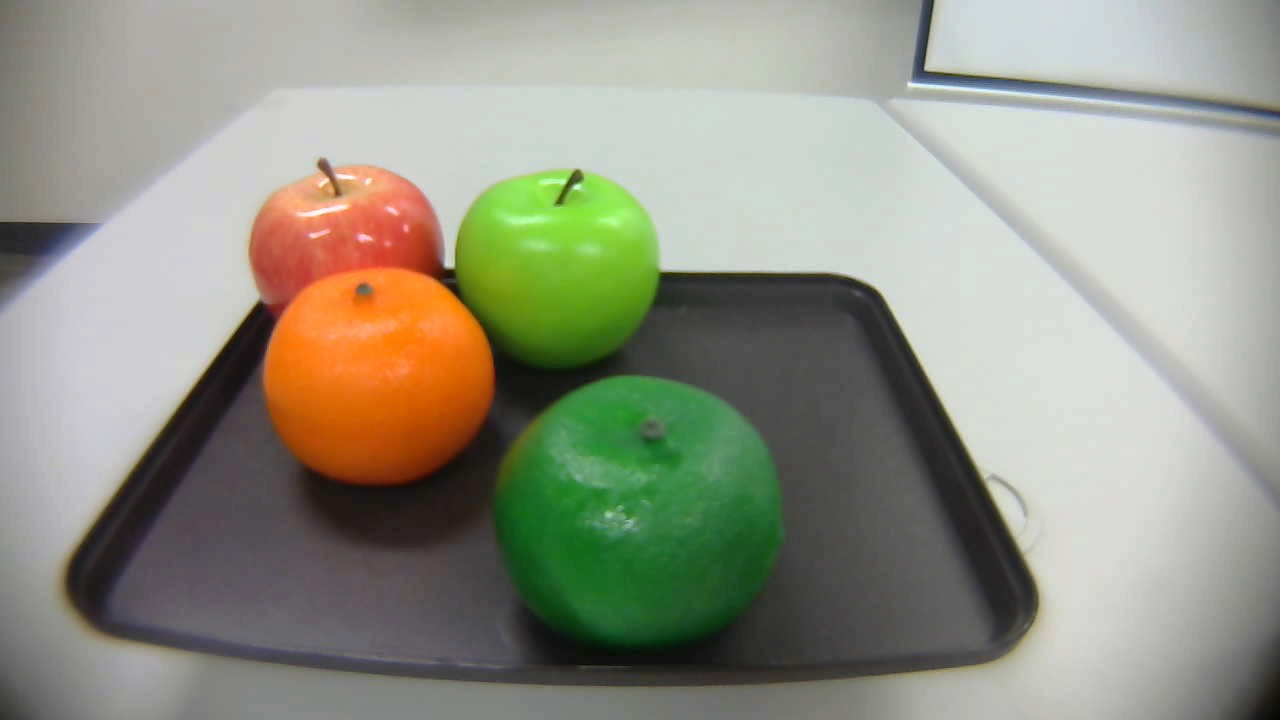green apple: (438, 163, 672, 375)
green orange: (495, 363, 787, 656)
orange: (254, 261, 504, 498)
red apple: (231, 148, 446, 329)
